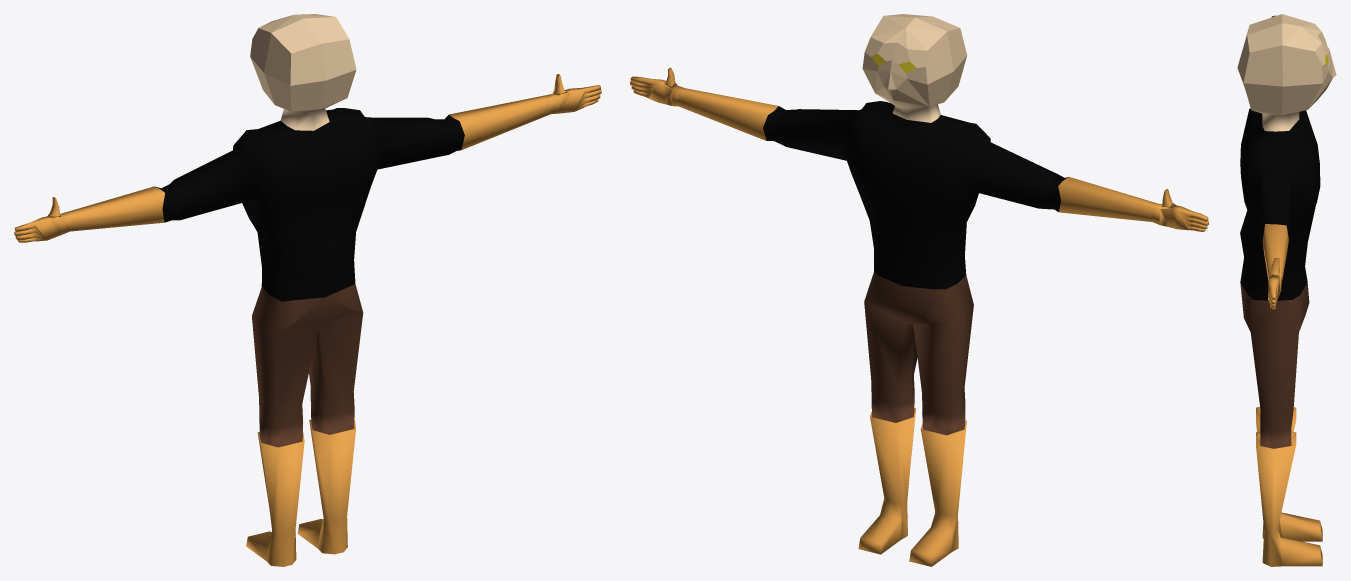
File: Basic Man.fbx
3 views of the same model, side by side, from view 1: azimuth 30°, elevation 25°; view 2: azimuth 150°, elevation 25°; view 3: azimuth 270°, elevation 25° (orthographic).
Parts seen in each view (by area): view 1: WahModel; view 2: WahModel; view 3: WahModel.
Boxes of the visible parts, <box> form: WahModel: <box>14,14,601,566</box>; WahModel: <box>630,14,1208,566</box>; WahModel: <box>1237,14,1336,566</box>.
Bounding box in the file's own units: 294 × 256 × 43.81.
